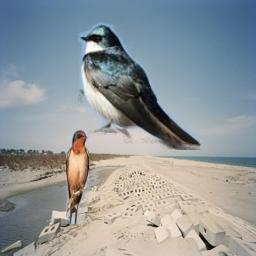Swallow: (78, 22, 201, 150), (66, 130, 89, 224)
